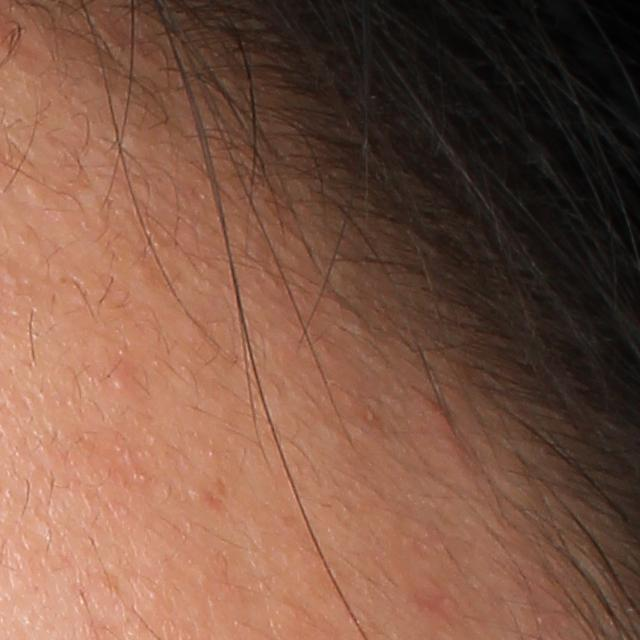comedo: (110, 369, 132, 392)
